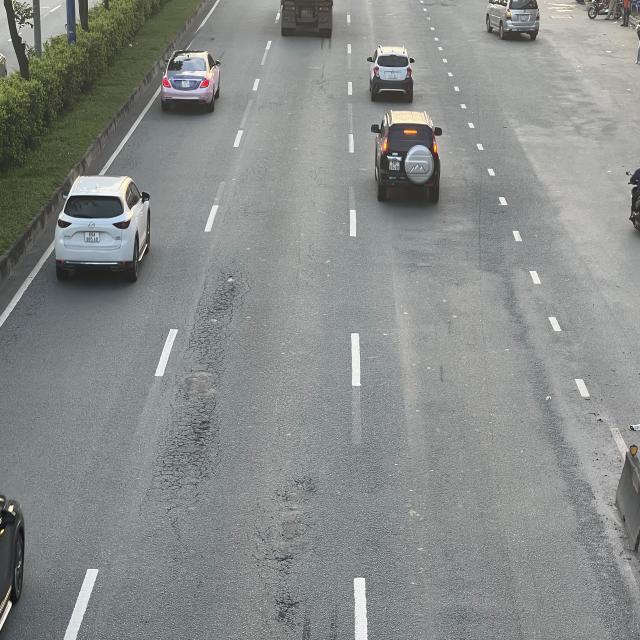car: (53, 172, 151, 280), (374, 112, 445, 203), (164, 50, 225, 112), (368, 44, 418, 100), (483, 0, 540, 40)
